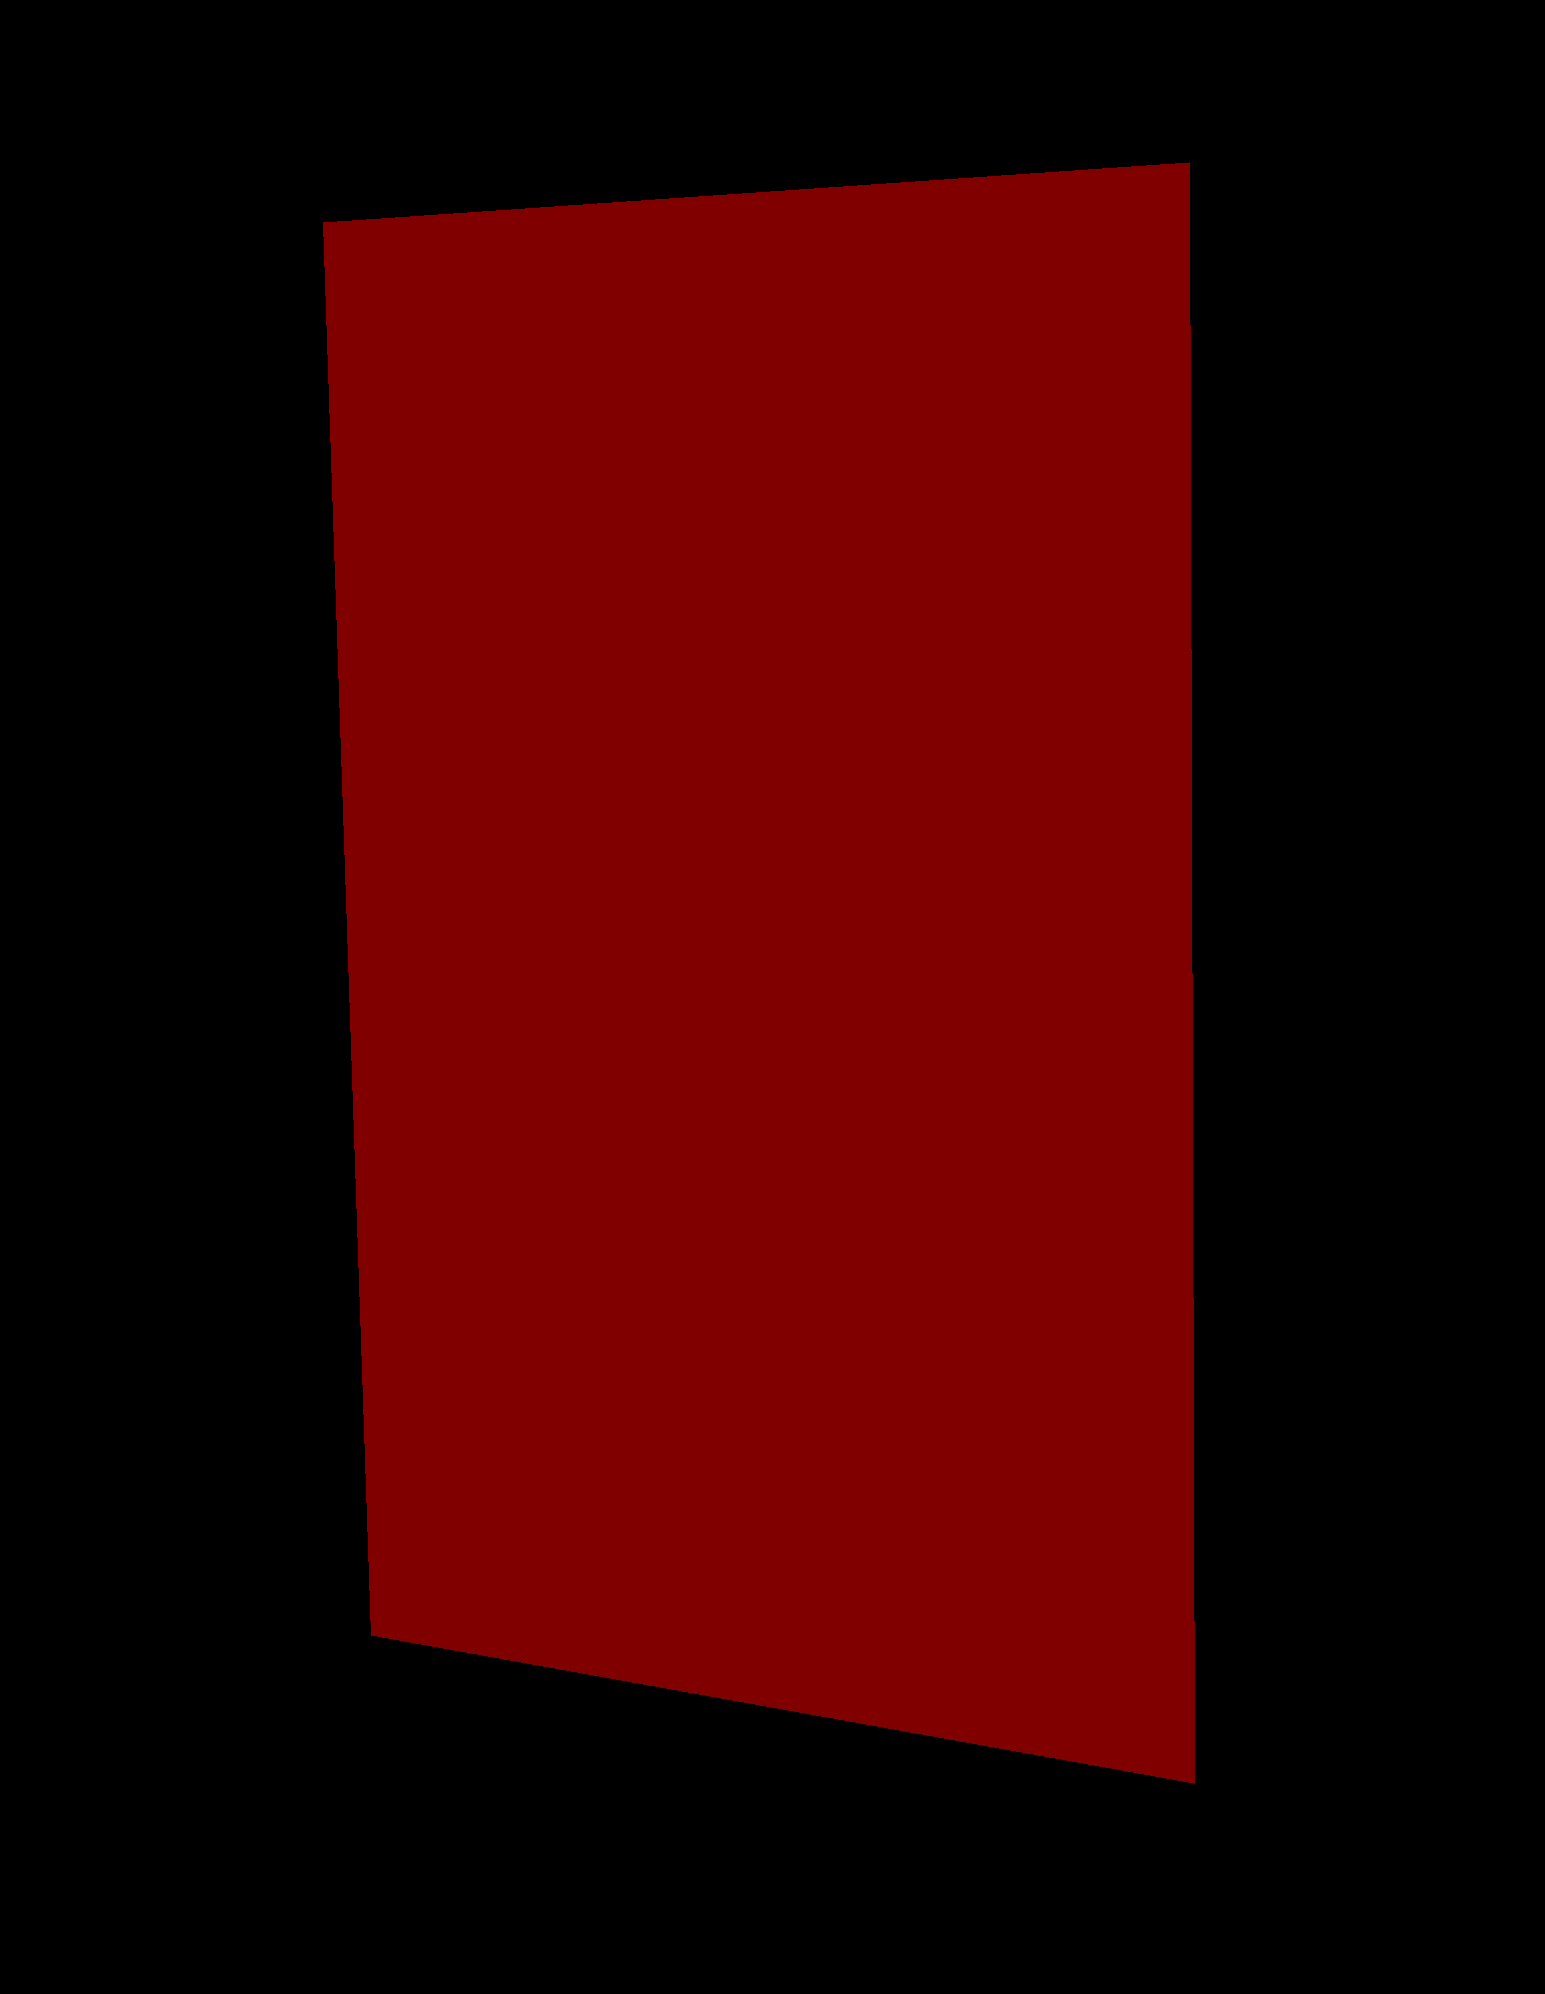sign: (324, 162, 1194, 1784)
